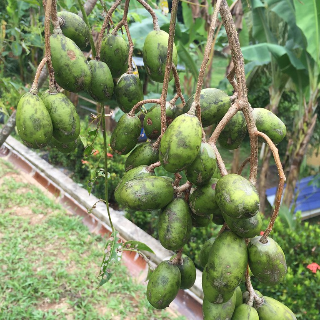coc: (159, 114, 200, 172), (216, 172, 260, 220), (16, 94, 52, 148), (120, 175, 177, 209), (146, 259, 180, 310), (111, 112, 142, 155)
